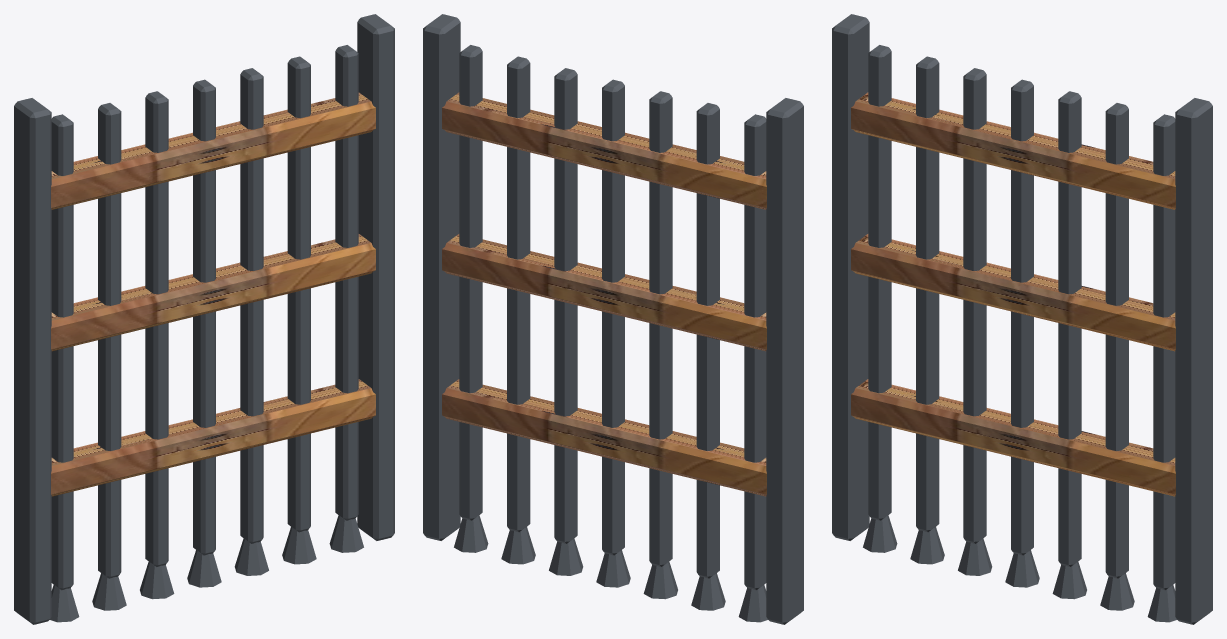
Rendered from dungeon_portcullis.glb.
3 views of the same model, side by side, from view 1: azimuth 30°, elevation 25°; view 2: azimuth 150°, elevation 25°; view 3: azimuth 330°, elevation 25° (orthographic).
Visible parts, largest first — view 1: dungeon_portcullis; view 2: dungeon_portcullis; view 3: dungeon_portcullis.
Part boxes in pixels (<box>): dungeon_portcullis: <box>14,14,394,624</box>; dungeon_portcullis: <box>423,14,803,624</box>; dungeon_portcullis: <box>832,14,1212,624</box>.
Size of the model in its own units: 2 by 2.71 by 0.19.
2 materials, 1 textured.
